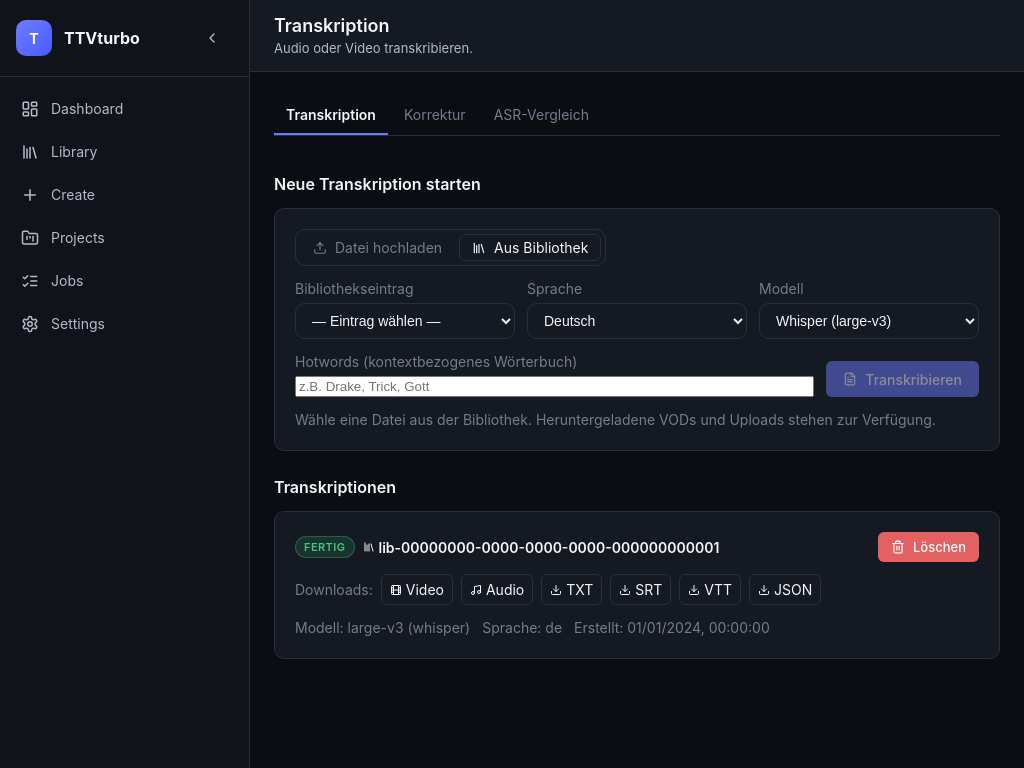
Test case: Transcript editor frontend › loads the transcript and shows raw text
This screenshot has width=1024, height=768.
Expected: the heading "Neue Transkription starten" is shown, [274, 174, 481, 194]
Click the tab "Korrektur".
click(435, 116)  # box [392, 96, 478, 135]
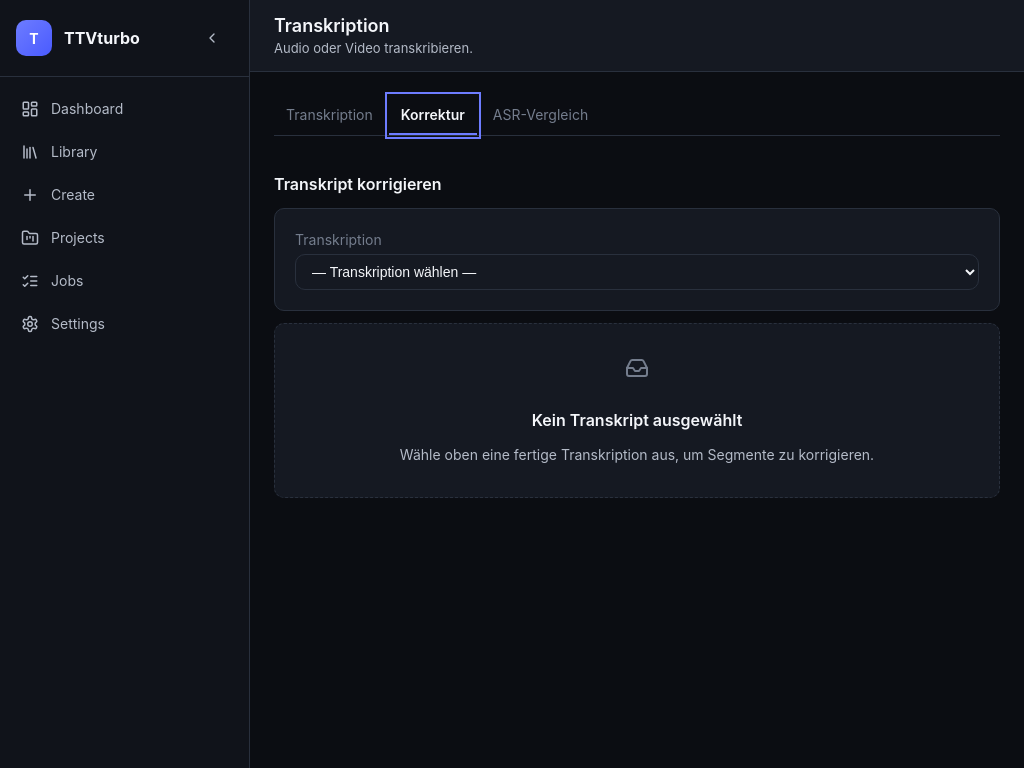
Expected: the heading "Transkript korrigieren" is shown, [274, 174, 442, 194]
Select "Test Upload · large-v3 · 01/01/2024, 00:00:00" in the dropdown labelled "Transkription" at (637, 272), box [295, 254, 979, 290]
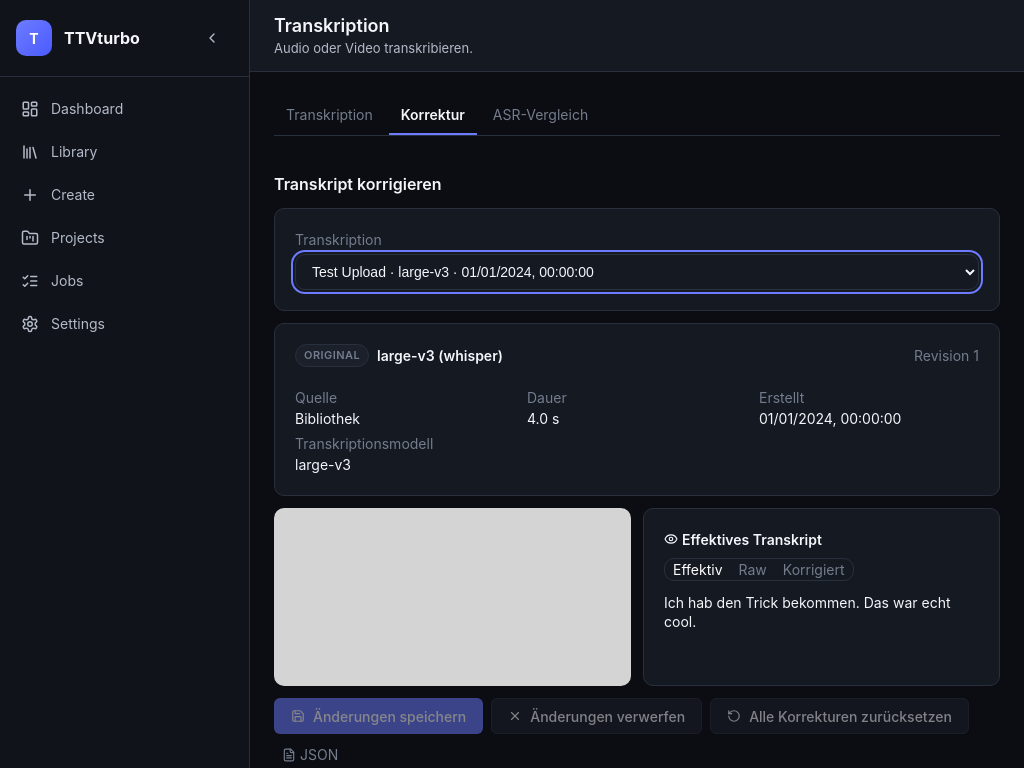
Expected: the text "Ich hab den Trick bekommen. Das war echt cool." is shown, [664, 592, 979, 632]
